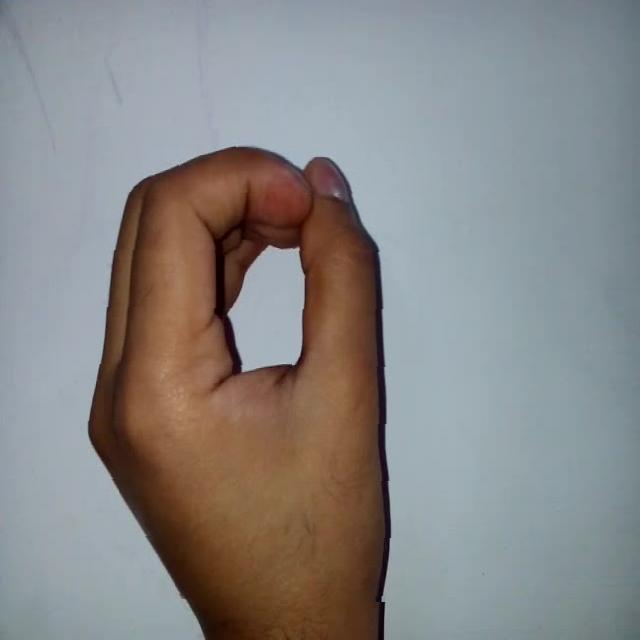O: (85, 128, 440, 602)
